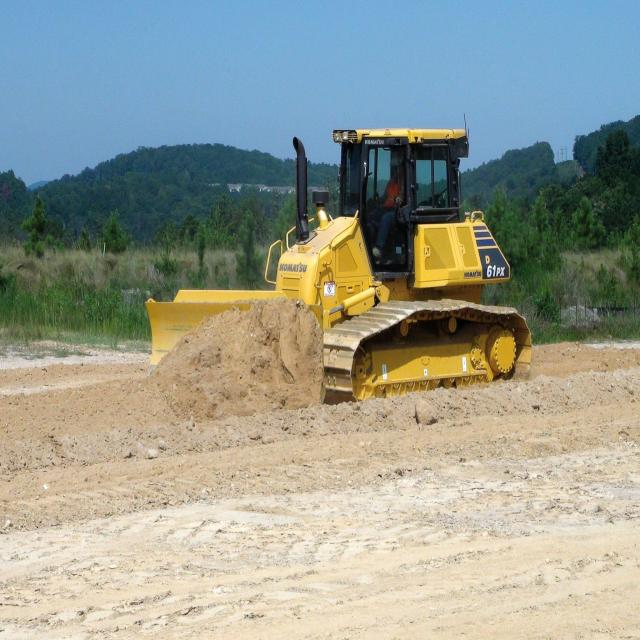Bulldozer: (146, 109, 549, 417)
